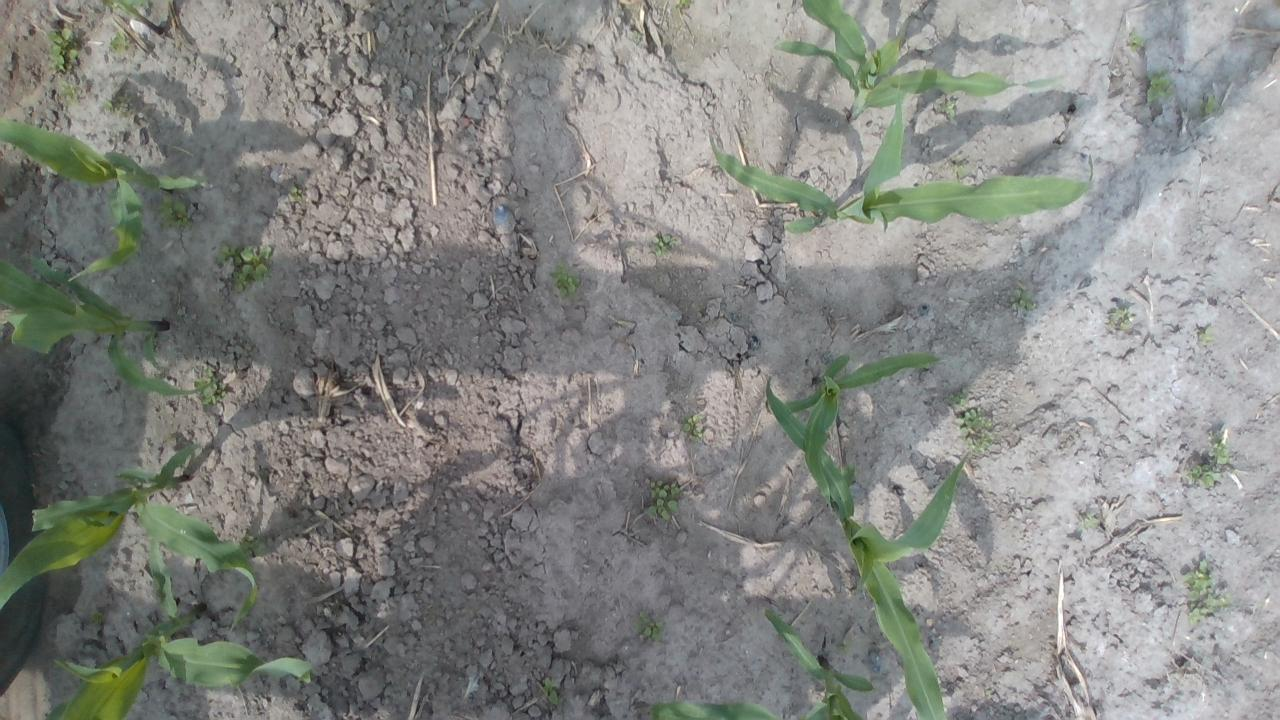Maize: (760, 374, 970, 720), (709, 78, 1093, 236), (0, 440, 258, 633), (774, 0, 1057, 121), (0, 120, 212, 278), (0, 252, 215, 402), (48, 610, 312, 720), (648, 606, 872, 720), (786, 350, 941, 498), (106, 0, 161, 36)
Weeds: (216, 241, 274, 290), (150, 191, 193, 233), (957, 406, 994, 454), (642, 480, 680, 522), (48, 27, 82, 73), (191, 366, 225, 408), (1182, 559, 1213, 600), (550, 262, 580, 298), (1146, 69, 1175, 102), (634, 611, 664, 640), (1184, 464, 1219, 488), (102, 94, 130, 122), (1106, 308, 1136, 332), (239, 535, 270, 557), (652, 234, 679, 257), (1007, 288, 1033, 311), (681, 413, 703, 440), (1205, 592, 1231, 614), (541, 676, 561, 704), (1210, 436, 1228, 465), (108, 31, 132, 52), (1198, 94, 1220, 115), (944, 387, 968, 406), (1187, 605, 1208, 626), (938, 97, 956, 121), (1128, 31, 1146, 53), (837, 639, 859, 656), (60, 78, 76, 99), (952, 158, 968, 176), (1199, 326, 1213, 346), (288, 184, 304, 201), (1084, 514, 1100, 528), (672, 0, 689, 11), (630, 30, 640, 42)
